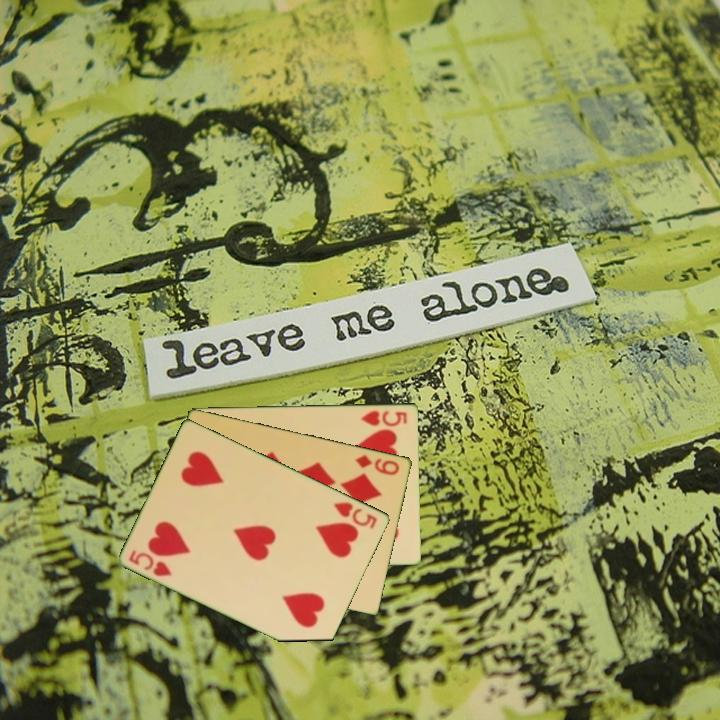5h: (330, 498, 380, 532), (125, 546, 175, 579), (357, 407, 410, 429)
9d: (352, 451, 402, 478)
